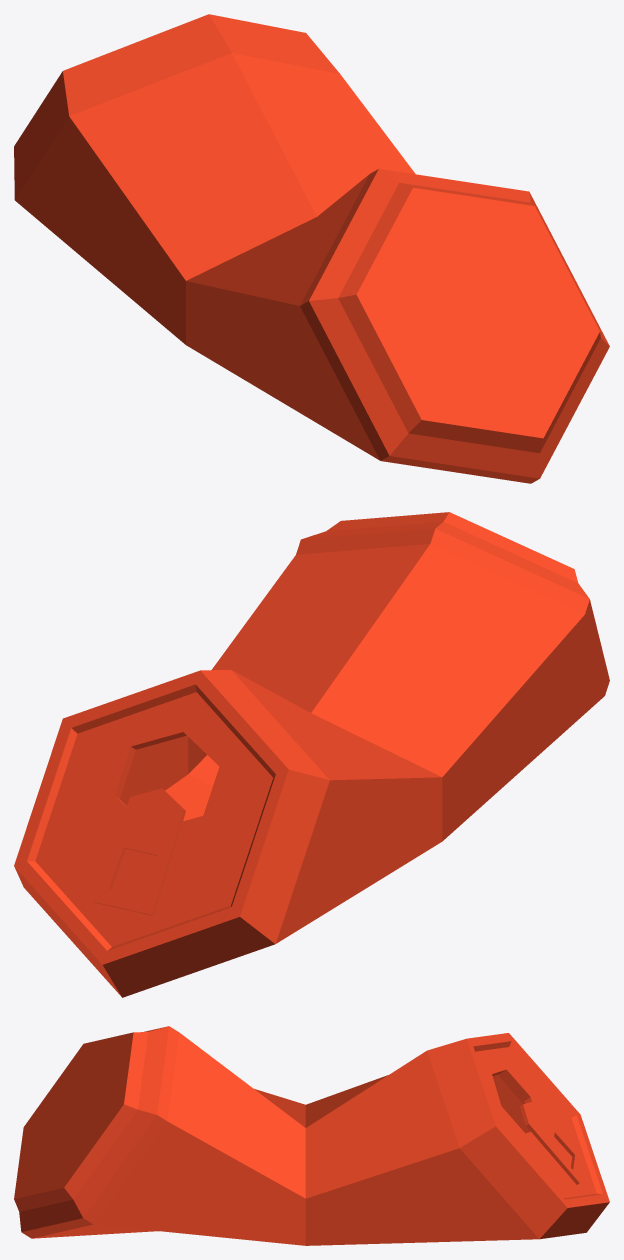
Rendered from SM_Can_B_Broken_City.fbx.
3 renders of one model, top to bottom at view 1: azimuth 30°, elevation 25°; view 2: azimuth 150°, elevation 25°; view 3: azimuth 270°, elevation 25°, orthographic. The views are drawn at different scales.
Parts seen in each view (by area): view 1: SM_Can_B_Broken_City; view 2: SM_Can_B_Broken_City; view 3: SM_Can_B_Broken_City.
Part boxes in pixels (x1=…): SM_Can_B_Broken_City: x1=14, y1=14, x2=609, y2=483; SM_Can_B_Broken_City: x1=14, y1=512, x2=609, y2=997; SM_Can_B_Broken_City: x1=14, y1=1026, x2=609, y2=1245.
Size of the model in its own units: 0.0781 by 0.0696 by 0.1912.
